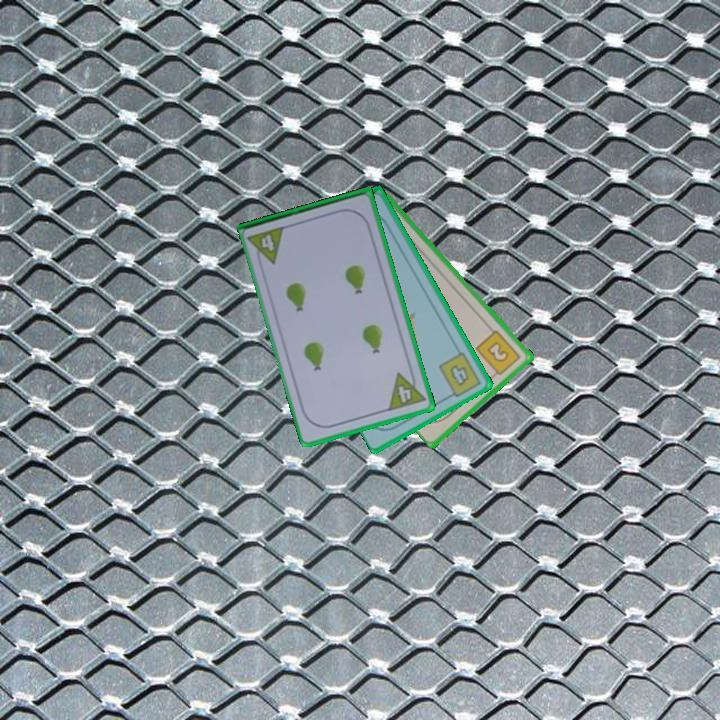2b: (473, 326, 524, 381)
4b: (435, 348, 484, 401)
4p: (245, 223, 289, 270), (385, 366, 428, 414)
